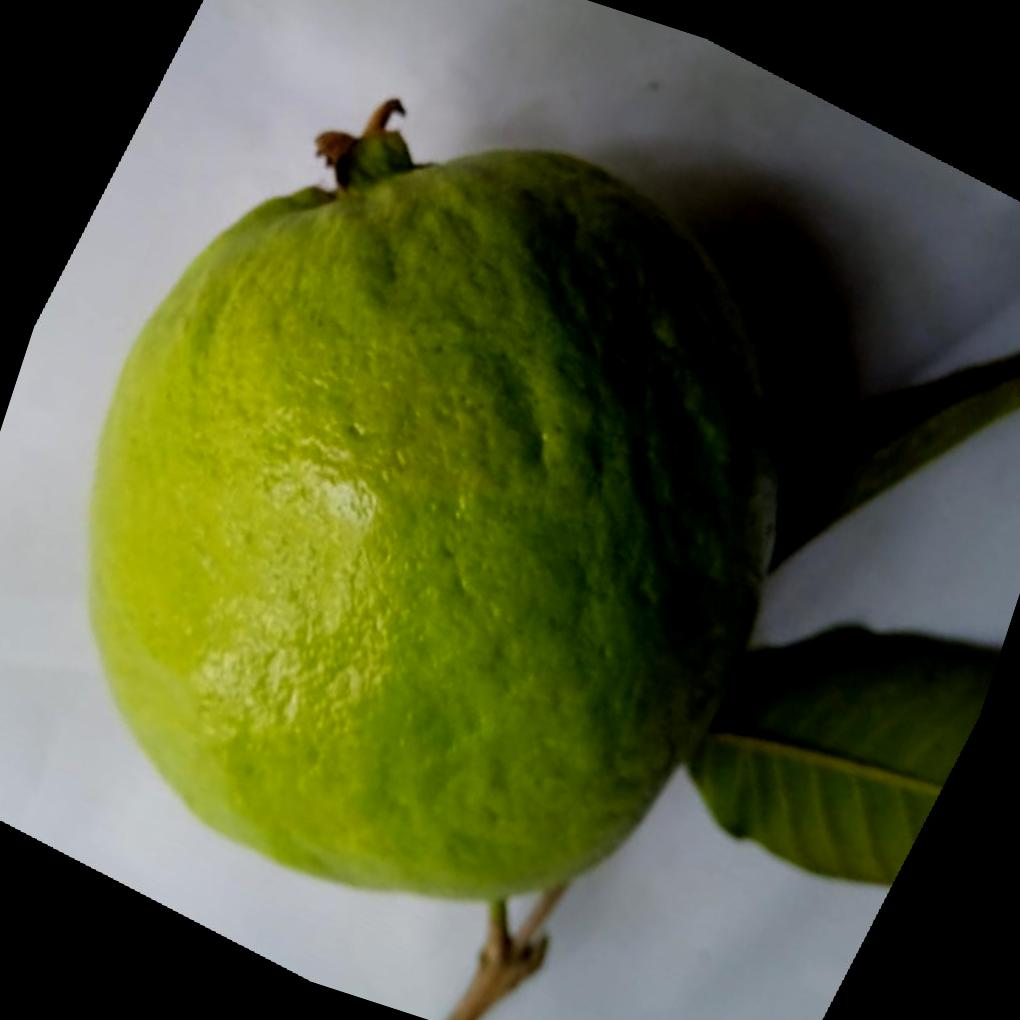FreshGuava: (86, 99, 787, 911)
